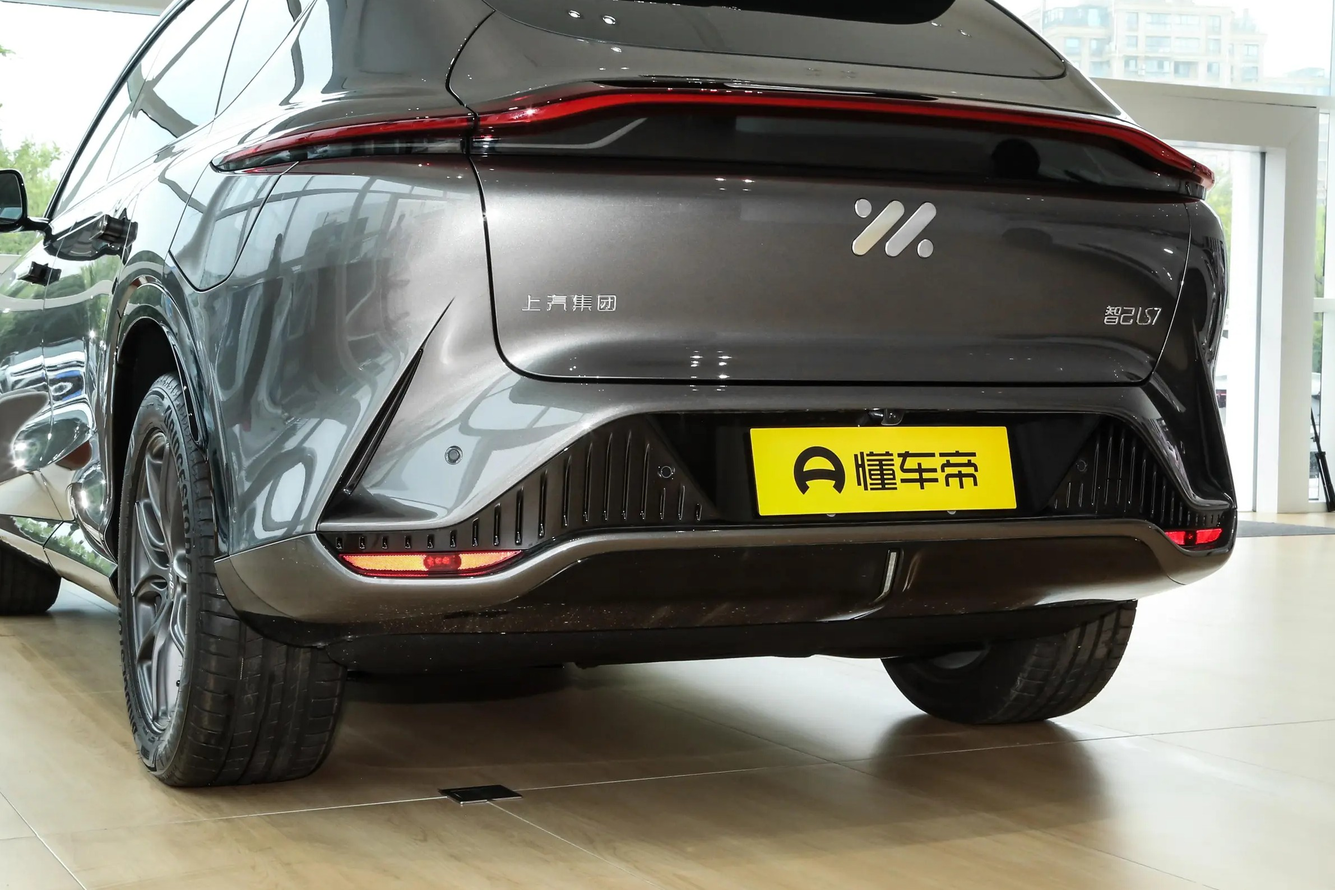IM: (852, 197, 936, 257)
